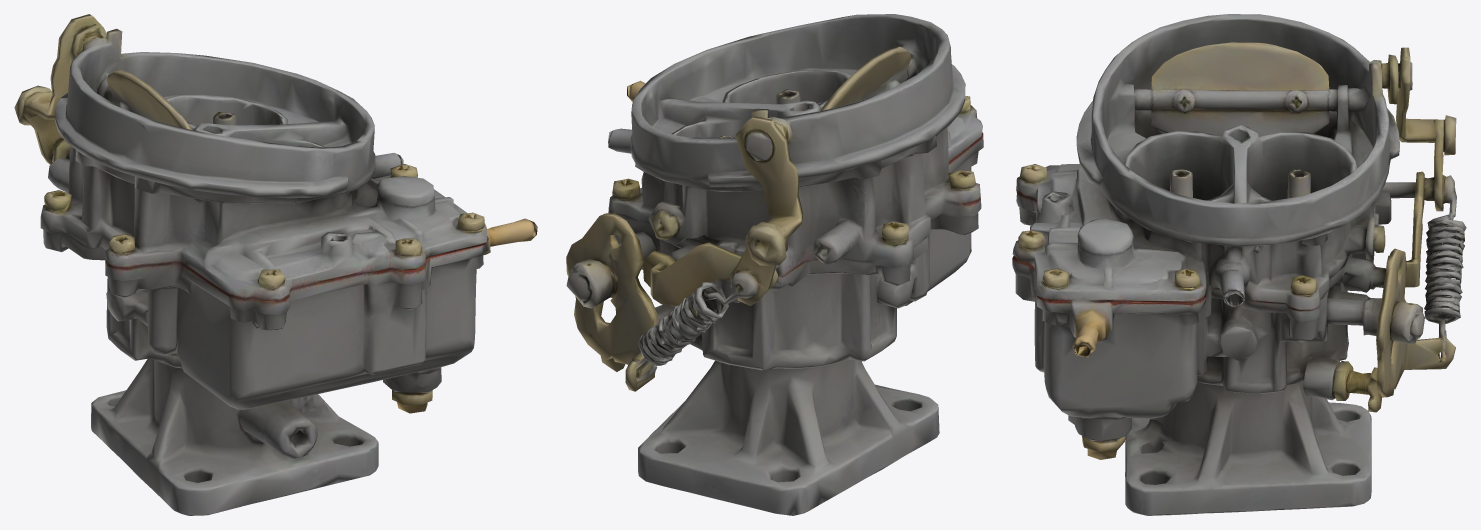
The model's file is carburetor.glb.
The picture shows the model from 3 angles, left to right: view 1: azimuth 30°, elevation 25°; view 2: azimuth 150°, elevation 25°; view 3: azimuth 270°, elevation 25°; orthographic projection. The views are drawn at different scales.
Visible parts, largest first — view 1: tripo_node_2ef8a402-606b-4722-b3f2-d6253c6046c3; view 2: tripo_node_2ef8a402-606b-4722-b3f2-d6253c6046c3; view 3: tripo_node_2ef8a402-606b-4722-b3f2-d6253c6046c3.
Boxes of the visible parts, x1,y1,x2,y2 form: tripo_node_2ef8a402-606b-4722-b3f2-d6253c6046c3: (14, 14, 537, 515); tripo_node_2ef8a402-606b-4722-b3f2-d6253c6046c3: (566, 14, 983, 515); tripo_node_2ef8a402-606b-4722-b3f2-d6253c6046c3: (1012, 14, 1466, 515).
Bounding box in the file's own units: 0.9566 × 0.9435 × 1.
Materials: 1 (1 with a texture image).
